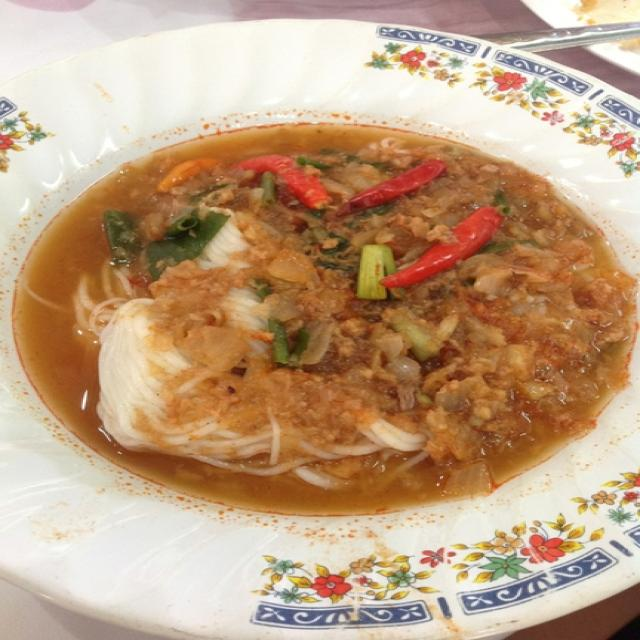面条主食: (19, 34, 627, 616)
